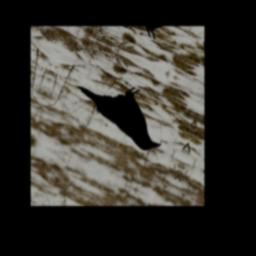Crow: (69, 63, 176, 161)
